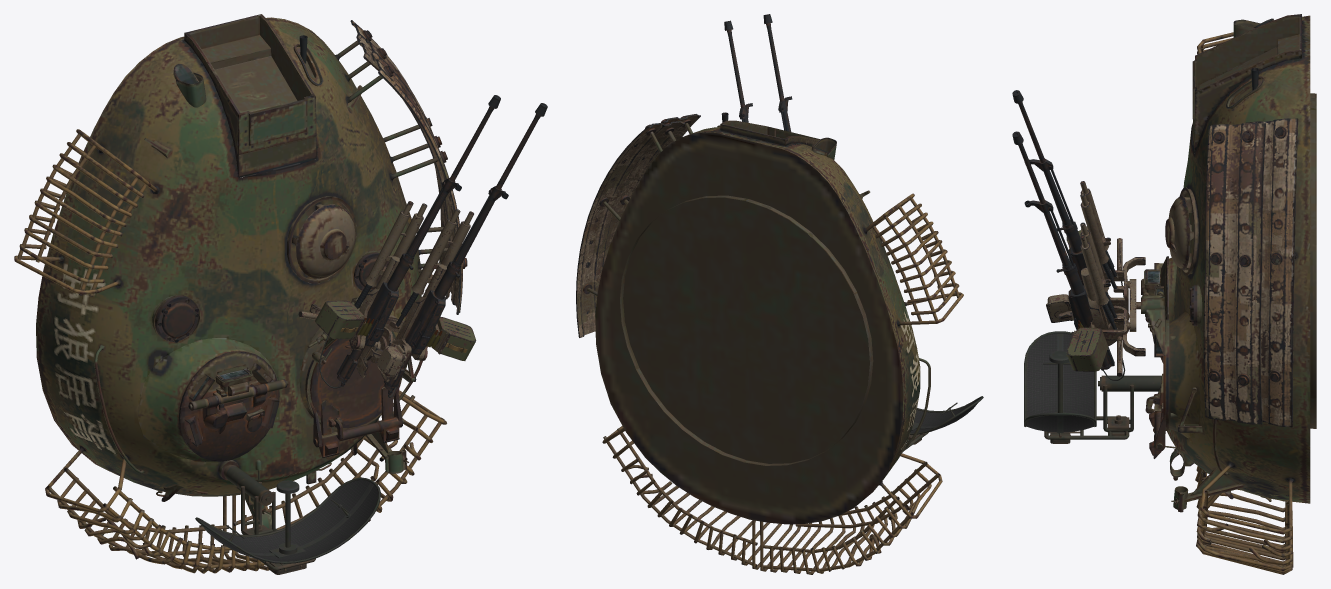
Rendered from Turret_03.glb.
3 renders of one model, left to right at view 1: azimuth 30°, elevation 25°; view 2: azimuth 150°, elevation 25°; view 3: azimuth 270°, elevation 25°, orthographic. The views are drawn at different scales.
Visible parts, largest first — view 1: set_0_group_0, set_0_group_1, set_0_group_2; view 2: set_0_group_0, set_0_group_1, set_0_group_2; view 3: set_0_group_0, set_0_group_1, set_0_group_2.
Part boxes in pixels (x1,y1,x2,y2): set_0_group_0: (14,14,447,573); set_0_group_1: (298,20,547,397); set_0_group_2: (195,465,380,574); set_0_group_0: (587,112,963,574); set_0_group_1: (576,14,792,337); set_0_group_2: (905,396,983,449); set_0_group_0: (1141,14,1316,574); set_0_group_1: (1012,90,1298,427); set_0_group_2: (1024,331,1161,443).
Bounding box in the file's own units: 2.86 × 3.34 × 1.77.
Materials: 3 (3 with a texture image).
